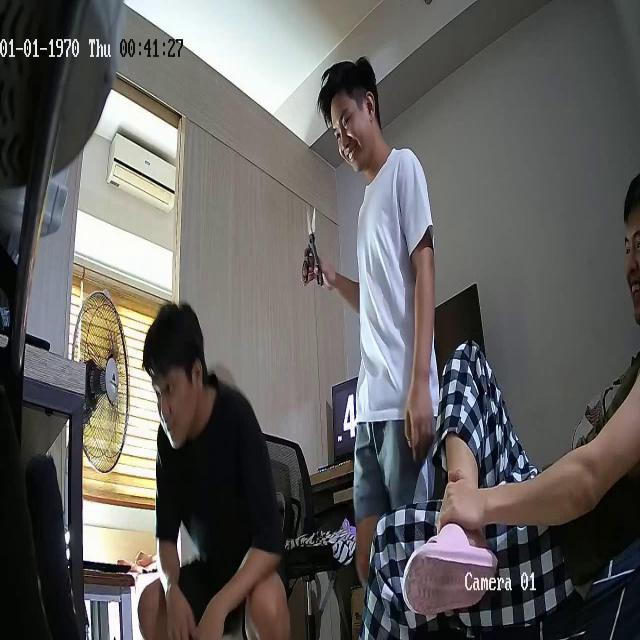scissor: (302, 208, 323, 287)
